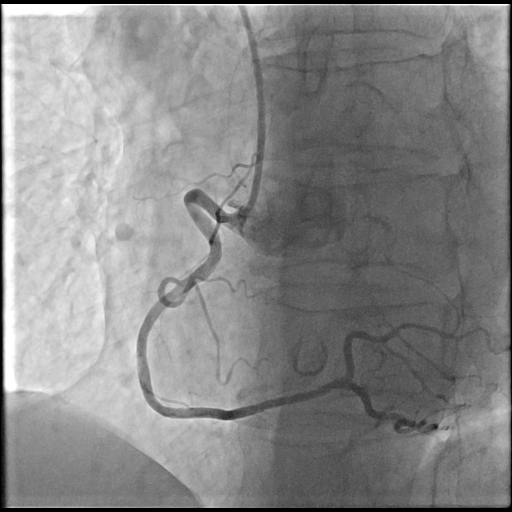RCA: (136, 161, 436, 426)
catherter: (218, 5, 266, 224)
